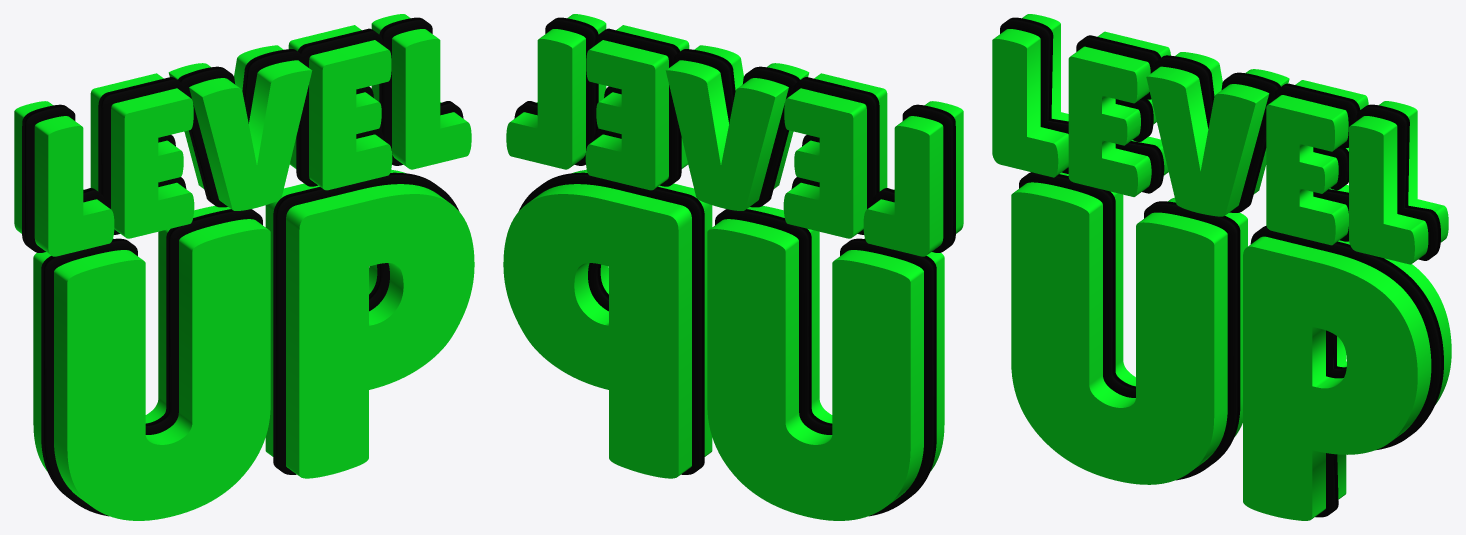
Rendered from TextOutline.fbx.
3 views of the same model, side by side, from view 1: azimuth 30°, elevation 25°; view 2: azimuth 150°, elevation 25°; view 3: azimuth 330°, elevation 25° (orthographic).
Visible parts, largest first — view 1: UP, LEVEL, UP.001, LEVEL.001; view 2: UP, LEVEL, UP.001, LEVEL.001; view 3: UP, LEVEL, UP.001, LEVEL.001.
Boxes of the visible parts, left/top/right/bottom form: UP: left=33, top=169, right=474, bottom=520; LEVEL: left=14, top=14, right=471, bottom=256; UP.001: left=41, top=172, right=459, bottom=516; LEVEL.001: left=22, top=17, right=463, bottom=252; UP: left=503, top=169, right=944, bottom=520; LEVEL: left=506, top=14, right=963, bottom=256; UP.001: left=518, top=172, right=936, bottom=516; LEVEL.001: left=514, top=17, right=955, bottom=252; UP: left=1011, top=172, right=1451, bottom=520; LEVEL: left=992, top=14, right=1448, bottom=264; UP.001: left=1019, top=172, right=1443, bottom=517; LEVEL.001: left=1000, top=17, right=1440, bottom=260.
Bounding box in the file's own units: 223 × 208 × 30.
